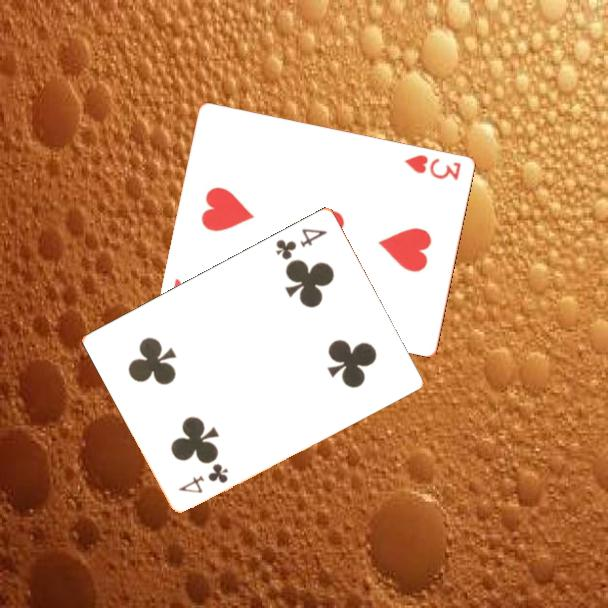c04: (272, 224, 330, 262), (174, 459, 231, 496)
h03: (401, 151, 464, 183)
